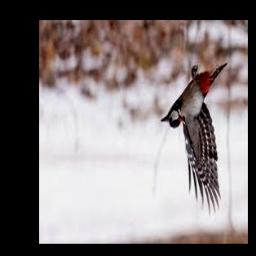Woodpecker: (161, 61, 227, 217)
